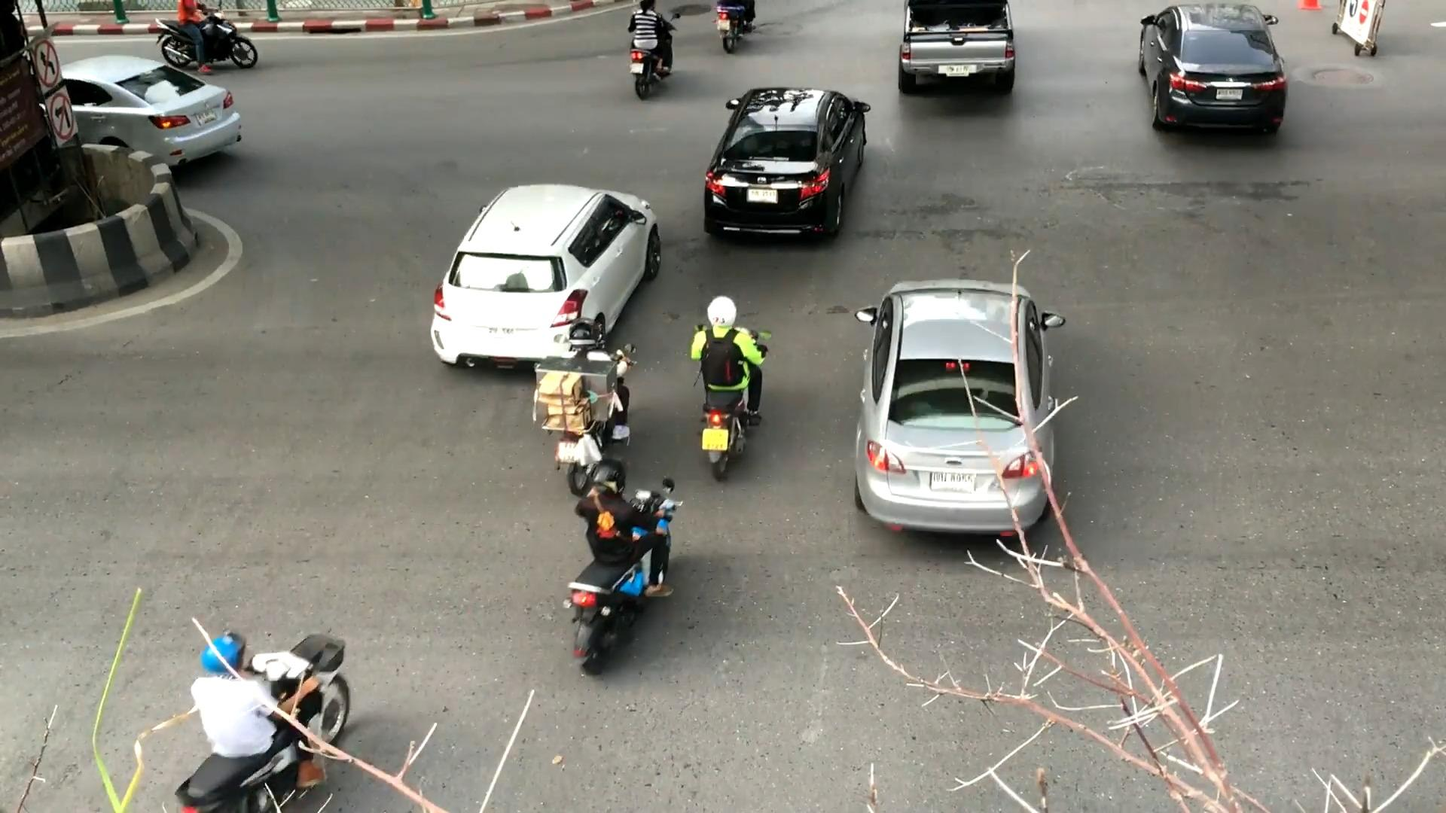driver: (175, 631, 350, 813), (562, 459, 683, 675), (532, 318, 637, 497), (691, 294, 772, 481), (154, 0, 258, 76), (627, 0, 682, 102)
helmet: (201, 630, 247, 677), (592, 458, 626, 498), (569, 318, 601, 351), (707, 295, 738, 327)
